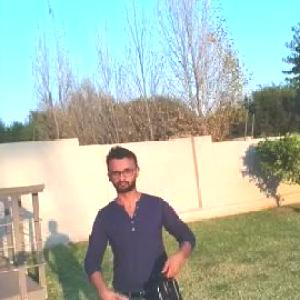follow: (75, 142, 199, 299)
